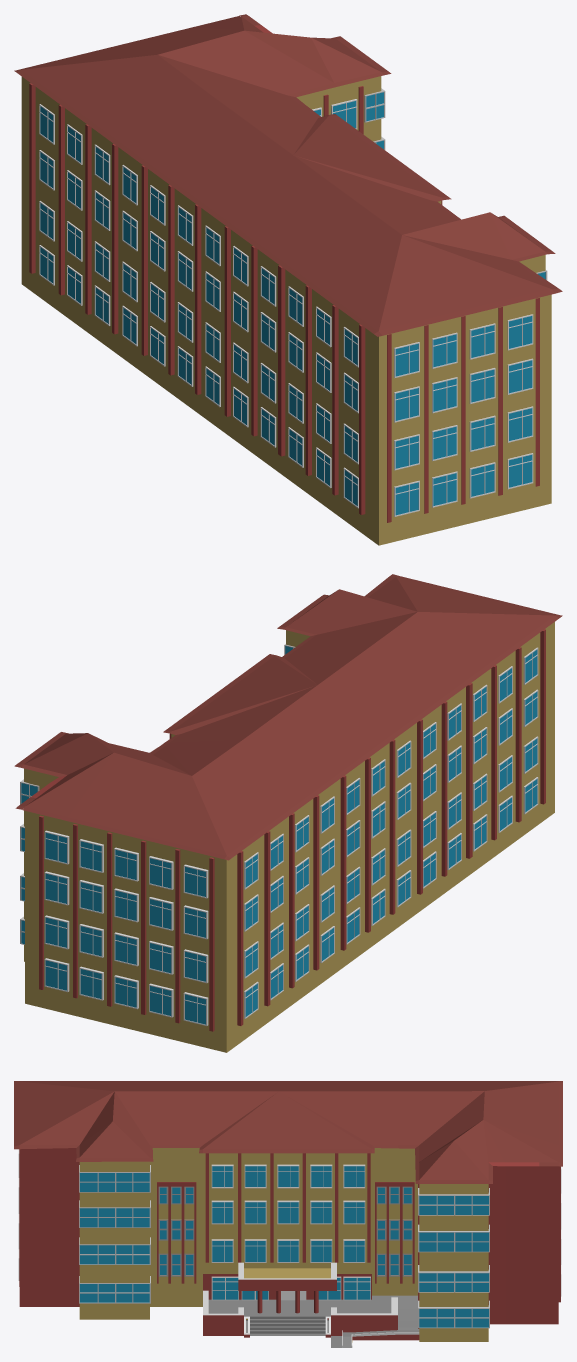
The model's file is anabina.fbx.
3 renders of one model, top to bottom at view 1: azimuth 30°, elevation 25°; view 2: azimuth 150°, elevation 25°; view 3: azimuth 270°, elevation 25°, orthographic. The views are drawn at different scales.
Visible parts, largest first — view 1: Plane, Cube.025, Cube.024, Cube.023, Cube.026, Cube.031, Cube.043, Cube.034, Cube.033, Cube.042, Cube.040, Cube.041 (+3 smaller); view 2: Plane, Cube.038, Cube.024, Cube.026, Cube.023, Cube.025, Cube.031, Cube.027, Cube.028, Cube.029, Cube.030, Cube.034 (+3 smaller); view 3: Plane, Cube.037, Cube.036, Cube.015, Cube.016, Cube.014, Cube.017, Cube.011, Cube.013, Cube.010, Cube.012, Cube.006 (+8 smaller).
Part boxes in pixels (x1,y1,x2,y2): Plane: (14, 14, 562, 545); Cube.025: (39, 201, 358, 464); Cube.024: (39, 150, 358, 413); Cube.023: (39, 104, 358, 367); Cube.026: (39, 245, 358, 508); Cube.031: (279, 266, 365, 514); Cube.043: (387, 298, 539, 522); Cube.034: (58, 104, 118, 334); Cube.033: (141, 165, 201, 394); Cube.042: (394, 453, 533, 516); Cube.040: (394, 358, 533, 422); Cube.041: (394, 406, 533, 470); Plane: (14, 574, 562, 1052); Cube.038: (39, 815, 214, 1031); Cube.024: (244, 689, 538, 931); Cube.026: (244, 777, 538, 1018); Cube.023: (244, 647, 538, 889); Cube.025: (244, 736, 538, 978); Cube.031: (470, 629, 545, 857); Cube.027: (44, 830, 208, 898); Cube.028: (44, 871, 208, 939); Cube.029: (44, 915, 208, 983); Cube.030: (44, 958, 208, 1025); Cube.034: (264, 795, 319, 1006); Plane: (14, 1081, 562, 1347); Cube.037: (157, 1182, 196, 1283); Cube.036: (375, 1182, 414, 1283); Cube.015: (211, 1200, 365, 1224); Cube.016: (211, 1164, 365, 1188); Cube.014: (211, 1239, 365, 1262); Cube.017: (205, 1153, 370, 1262); Cube.011: (418, 1224, 489, 1252); Cube.013: (418, 1300, 489, 1328); Cube.010: (418, 1188, 489, 1215); Cube.012: (418, 1265, 489, 1292); Cube.006: (79, 1200, 150, 1227).
Size of the model in its own units: 2249 by 1847 by 4908.
